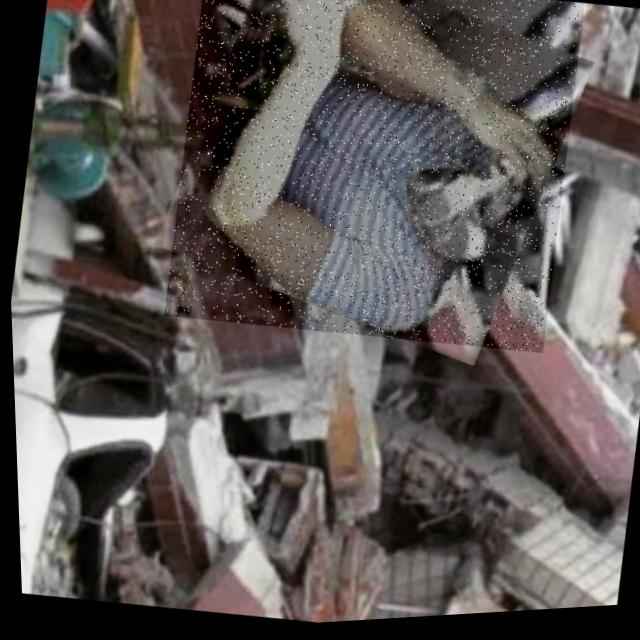Person in Rubble: (151, 0, 593, 377)
